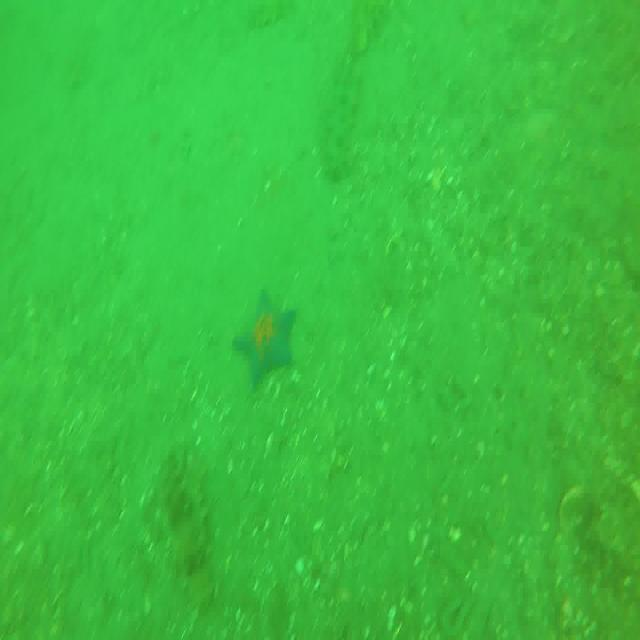holothurian: (325, 0, 383, 175), (160, 449, 207, 570)
starfish: (230, 290, 292, 389)
